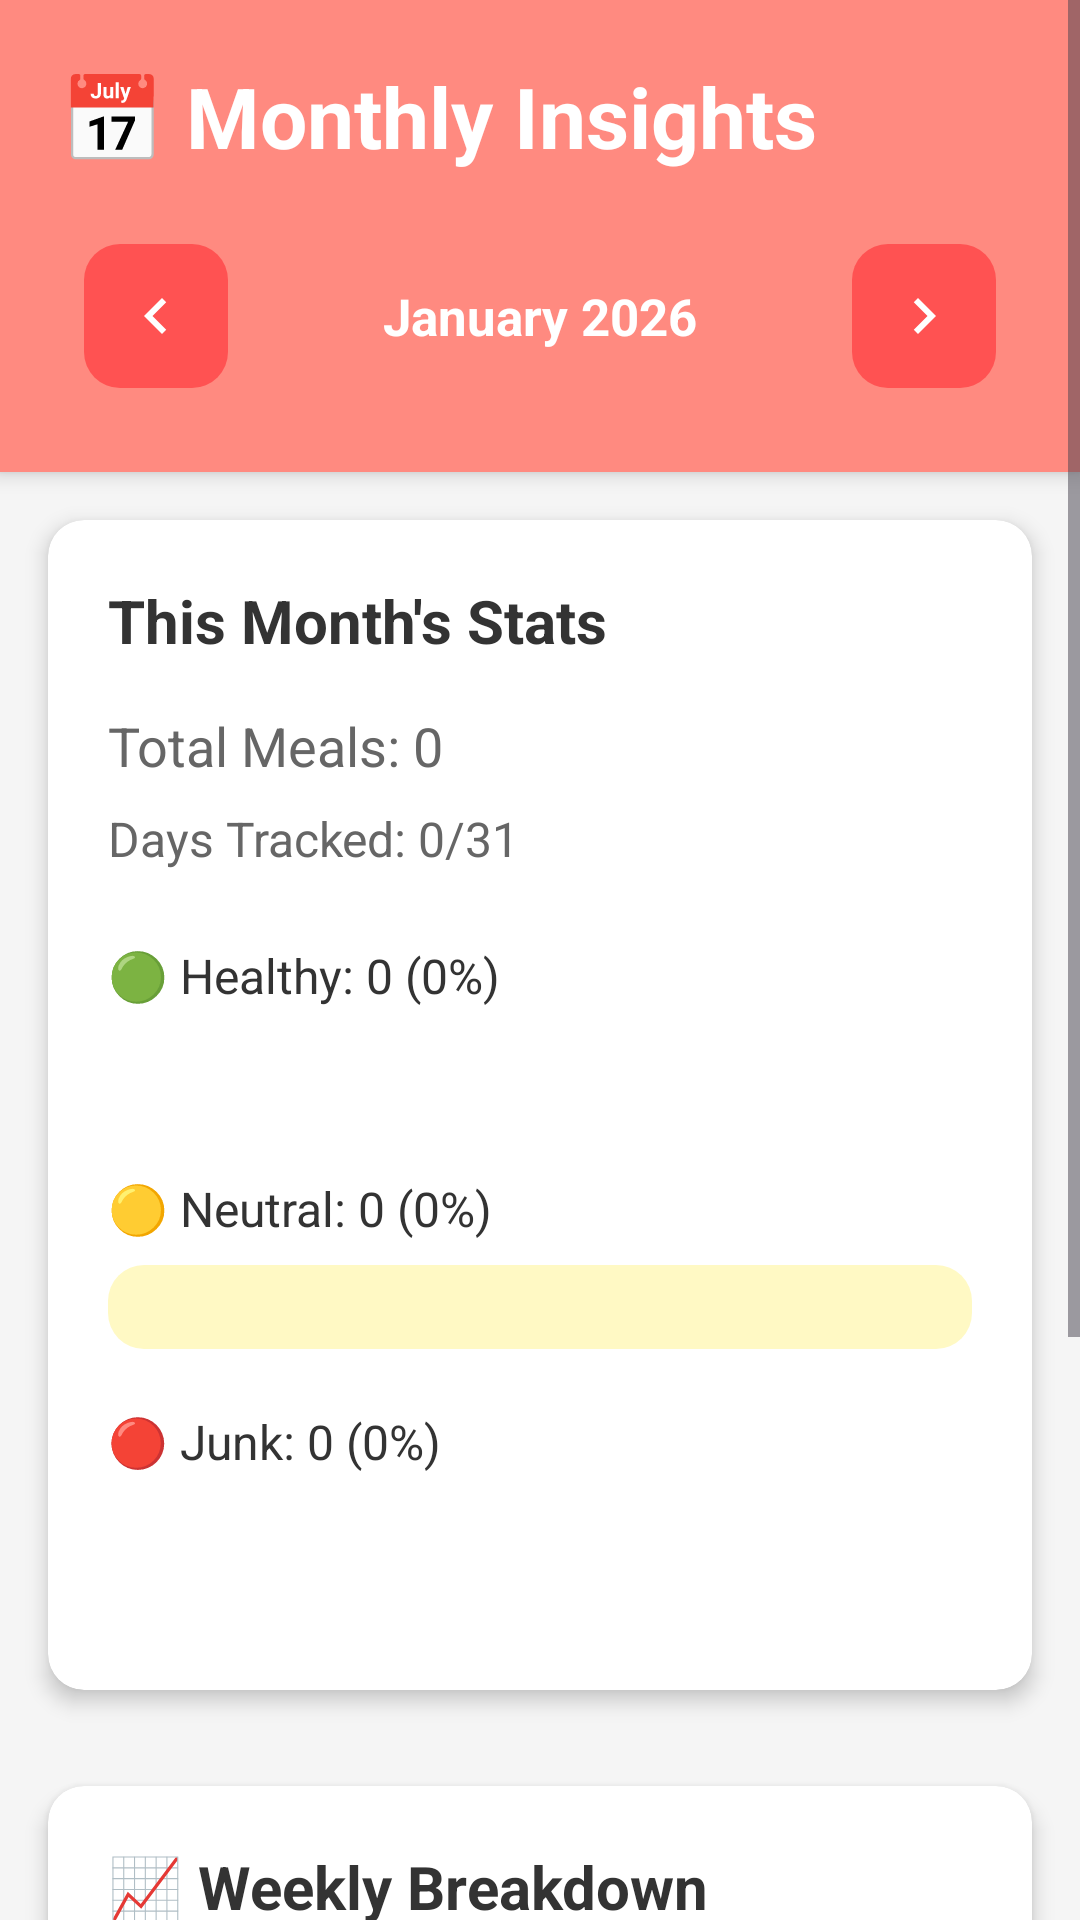

Screen size 1080 x 1920. Icon name, then its center in pixels as [x,y]:
Next Month: [924,316]
Previous Month: [156,316]
